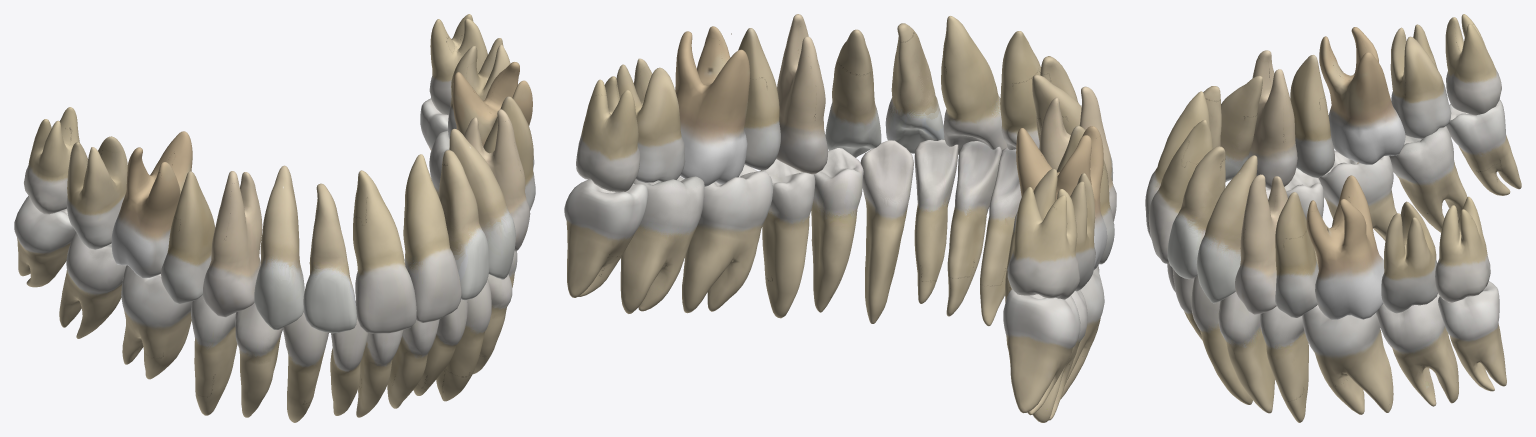
File: dental-arch.glb
3 views of the same model, side by side, from view 1: azimuth 30°, elevation 25°; view 2: azimuth 150°, elevation 25°; view 3: azimuth 270°, elevation 25° (orthographic). The views are drawn at different scales.
Parts seen in each view (by area): view 1: polySurface1_UL1_0, polySurface7_blinn18_0, polySurface4_blinn14_0, polySurface6_blinn15_0, ZBrushPolyMesh3D3_blinn16_0, polySurface9_blinn19_0, ZBrushPolyMesh3D7_blinn20_0, ZBrushPolyMesh3D4_blinn17_0, LL3seam_2:ZBrushPolyMesh3D_Mandible_ll3_0, LL6seam_2:ZBrushPolyMesh3D_Mandible_blinn10_0, LL7seam_2:ZBrushPolyMesh3D_Mandible_ll7_0, LL4seam_2:ZBrushPolyMesh3D_Mandible_ll4_0 (+4 smaller); view 2: LL8seam_2:ZBrushPolyMesh3D_Mandible_ll8_0, polySurface7_blinn18_0, ZBrushPolyMesh3D7_blinn20_0, LL6seam_2:ZBrushPolyMesh3D_Mandible_blinn10_0, LL1seam_2:ZBrushPolyMesh3D_Mandible_ll1_0, polySurface1_UL1_0, ZBrushPolyMesh3D3_blinn16_0, LL7seam_2:ZBrushPolyMesh3D_Mandible_ll7_0, polySurface9_blinn19_0, polySurface6_blinn15_0, LL3seam_2:ZBrushPolyMesh3D_Mandible_ll3_0, LL4seam_2:ZBrushPolyMesh3D_Mandible_ll4_0 (+4 smaller); view 3: polySurface7_blinn18_0, LL7seam_2:ZBrushPolyMesh3D_Mandible_ll7_0, polySurface9_blinn19_0, LL6seam_2:ZBrushPolyMesh3D_Mandible_blinn10_0, ZBrushPolyMesh3D3_blinn16_0, LL8seam_2:ZBrushPolyMesh3D_Mandible_ll8_0, ZBrushPolyMesh3D7_blinn20_0, ZBrushPolyMesh3D4_blinn17_0, polySurface6_blinn15_0, polySurface1_UL1_0, polySurface4_blinn14_0, LL5seam_3:ZBrushPolyMesh3D_Mandible_ll5_0 (+3 smaller).
Boxes of the visible parts, x1,y1,x2,y2 form: polySurface1_UL1_0: [353, 154, 461, 333]; polySurface7_blinn18_0: [111, 52, 534, 278]; polySurface4_blinn14_0: [303, 150, 489, 333]; polySurface6_blinn15_0: [254, 128, 515, 329]; ZBrushPolyMesh3D3_blinn16_0: [202, 109, 530, 317]; polySurface9_blinn19_0: [66, 38, 510, 249]; ZBrushPolyMesh3D7_blinn20_0: [24, 14, 487, 214]; ZBrushPolyMesh3D4_blinn17_0: [161, 96, 535, 303]; LL3seam_2:ZBrushPolyMesh3D_Mandible_ll3_0: [283, 279, 491, 422]; LL6seam_2:ZBrushPolyMesh3D_Mandible_blinn10_0: [121, 265, 191, 379]; LL7seam_2:ZBrushPolyMesh3D_Mandible_ll7_0: [59, 130, 449, 338]; LL4seam_2:ZBrushPolyMesh3D_Mandible_ll4_0: [235, 274, 512, 417]; LL8seam_2:ZBrushPolyMesh3D_Mandible_ll8_0: [564, 179, 1080, 415]; polySurface7_blinn18_0: [675, 26, 1107, 269]; ZBrushPolyMesh3D7_blinn20_0: [576, 76, 1079, 299]; LL6seam_2:ZBrushPolyMesh3D_Mandible_blinn10_0: [682, 164, 1104, 399]; LL1seam_2:ZBrushPolyMesh3D_Mandible_ll1_0: [946, 141, 1021, 326]; polySurface1_UL1_0: [941, 16, 1040, 154]; ZBrushPolyMesh3D3_blinn16_0: [776, 14, 1116, 221]; LL7seam_2:ZBrushPolyMesh3D_Mandible_ll7_0: [620, 176, 1087, 422]; polySurface9_blinn19_0: [616, 58, 1095, 291]; polySurface6_blinn15_0: [825, 29, 1113, 180]; LL3seam_2:ZBrushPolyMesh3D_Mandible_ll3_0: [860, 140, 913, 323]; LL4seam_2:ZBrushPolyMesh3D_Mandible_ll4_0: [811, 148, 863, 312]; polySurface7_blinn18_0: [1306, 27, 1405, 320]; LL7seam_2:ZBrushPolyMesh3D_Mandible_ll7_0: [1376, 126, 1467, 406]; polySurface9_blinn19_0: [1381, 24, 1451, 313]; LL6seam_2:ZBrushPolyMesh3D_Mandible_blinn10_0: [1302, 150, 1396, 414]; ZBrushPolyMesh3D3_blinn16_0: [1235, 50, 1297, 314]; LL8seam_2:ZBrushPolyMesh3D_Mandible_ll8_0: [1438, 100, 1521, 391]; ZBrushPolyMesh3D7_blinn20_0: [1435, 14, 1501, 302]; ZBrushPolyMesh3D4_blinn17_0: [1275, 55, 1334, 317]; polySurface6_blinn15_0: [1196, 75, 1262, 303]; polySurface1_UL1_0: [1145, 91, 1212, 263]; polySurface4_blinn14_0: [1167, 86, 1225, 279]; LL5seam_3:ZBrushPolyMesh3D_Mandible_ll5_0: [1260, 168, 1323, 422].
Size of the model in its own units: 2.59 by 1.54 by 1.91.
Materials: 16 (16 with a texture image).
